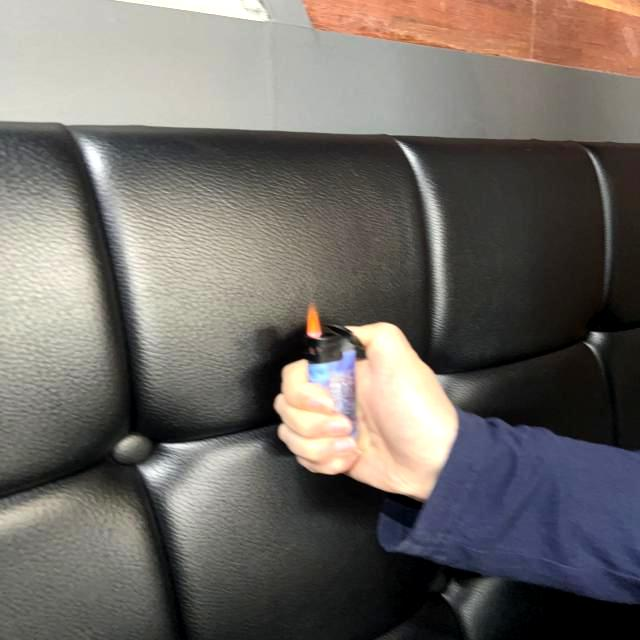fire: (306, 301, 322, 343)
